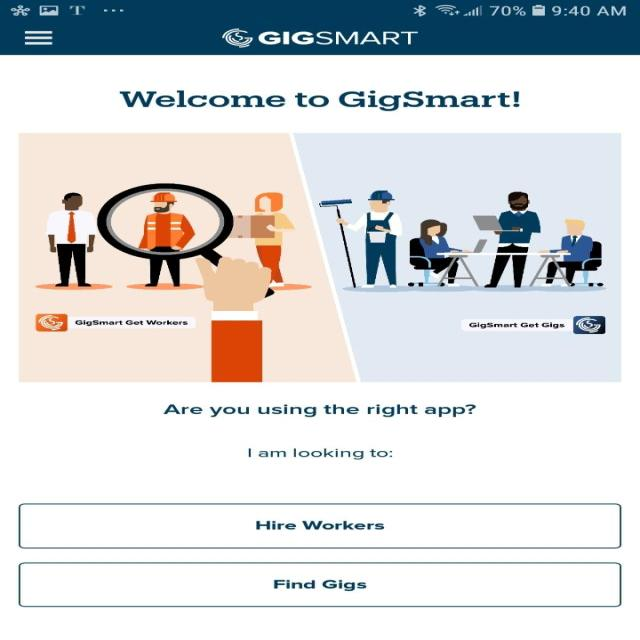Icon: (22, 29, 52, 45)
Image: (18, 133, 620, 382), (222, 28, 254, 48)
Text: (119, 90, 520, 112), (162, 404, 476, 417), (257, 31, 418, 45), (247, 447, 392, 460)
TextButton: (19, 503, 622, 549), (19, 562, 622, 607)
